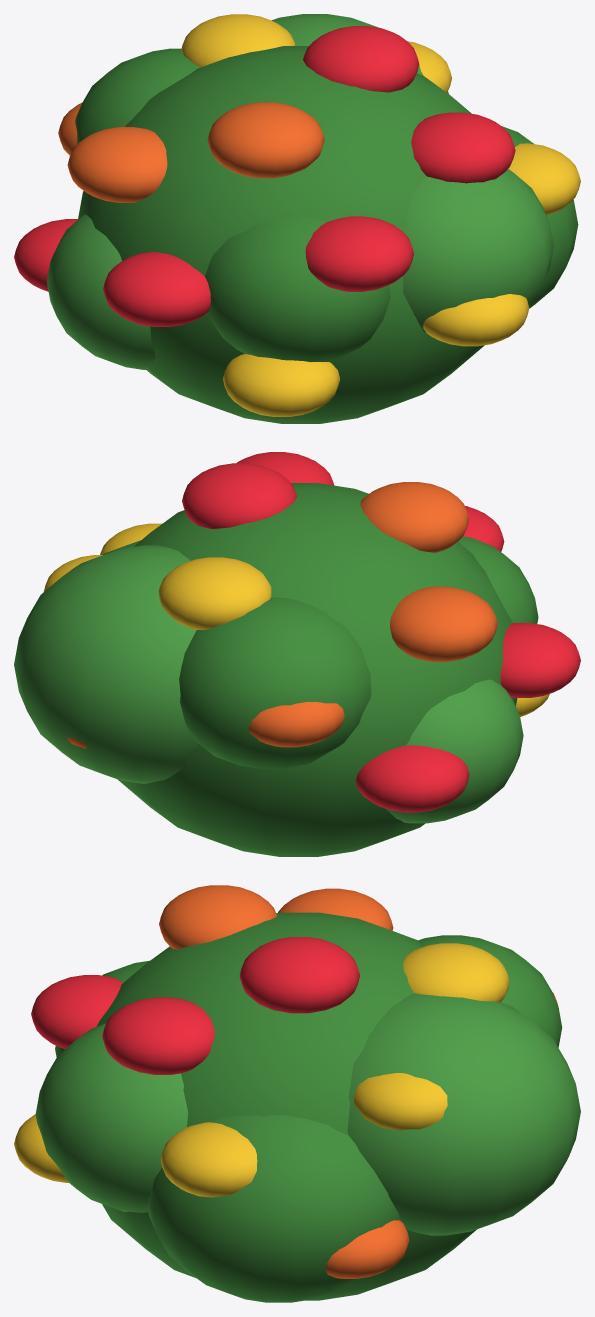
File: veg_hibisco.glb
The picture shows the model from 3 angles, top to bottom: view 1: azimuth 30°, elevation 25°; view 2: azimuth 150°, elevation 25°; view 3: azimuth 270°, elevation 25°; orthographic projection. The views are drawn at different scales.
Visible parts, largest first — view 1: veg_hibisco; view 2: veg_hibisco; view 3: veg_hibisco.
Boxes of the visible parts, x1,y1,x2,y2 form: veg_hibisco: (14,14,580,423); veg_hibisco: (14,452,580,856); veg_hibisco: (14,885,580,1302).
Bounding box in the file's own units: 2.46 × 1.71 × 2.44.
